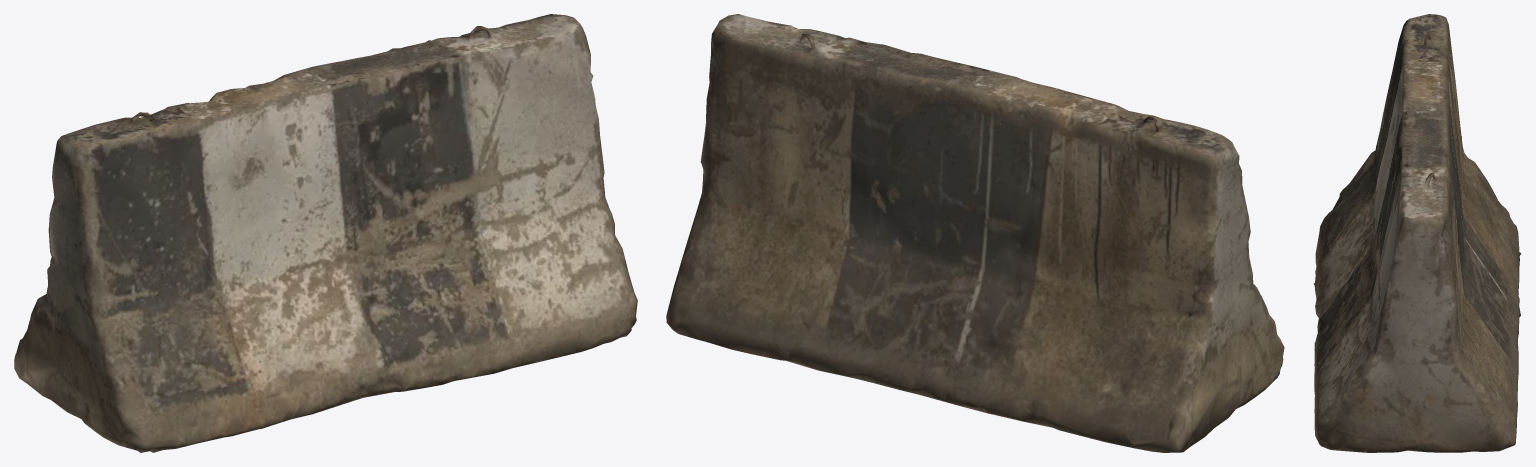
Rendered from concrete_road_barrier.glb.
3 views of the same model, side by side, from view 1: azimuth 30°, elevation 25°; view 2: azimuth 150°, elevation 25°; view 3: azimuth 270°, elevation 25° (orthographic). The views are drawn at different scales.
Parts seen in each view (by area): view 1: concrete_road_barrier; view 2: concrete_road_barrier; view 3: concrete_road_barrier.
Part boxes in pixels (box(x1,y1,x2,y2)): concrete_road_barrier: box(14, 14, 637, 452); concrete_road_barrier: box(666, 14, 1284, 452); concrete_road_barrier: box(1313, 14, 1521, 452).
Bounding box in the file's own units: 1.54 × 0.8279 × 0.6387.
Materials: 1 (1 with a texture image).
